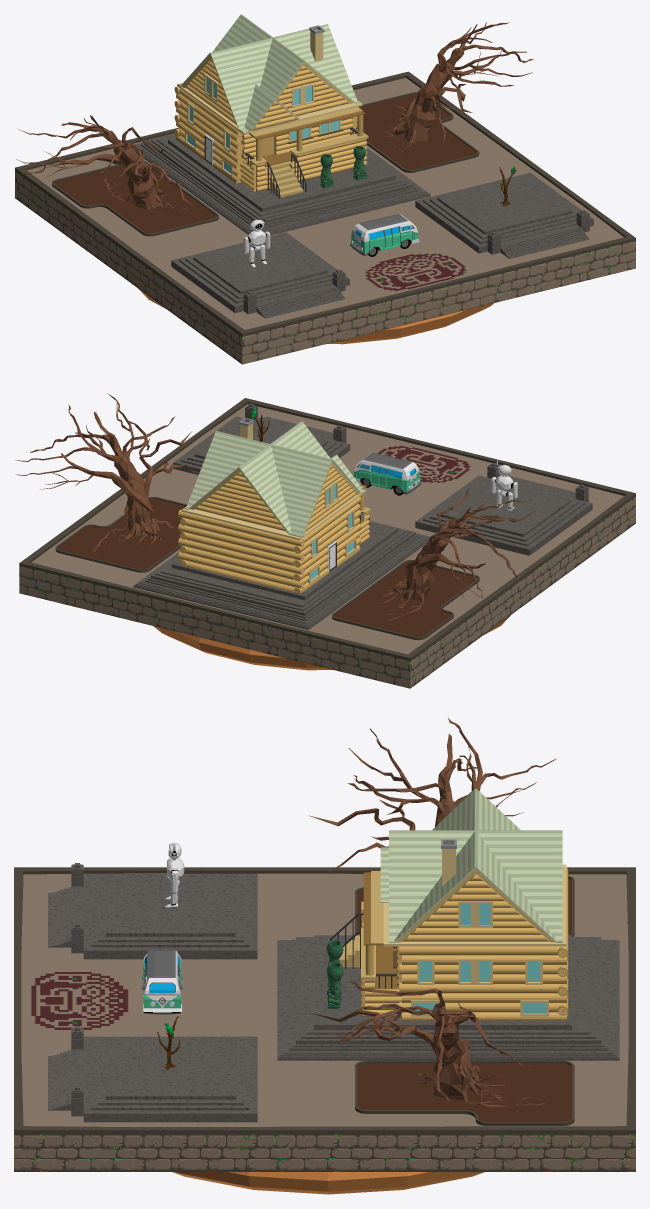
3 renders of one model, top to bottom at view 1: azimuth 30°, elevation 25°; view 2: azimuth 150°, elevation 25°; view 3: azimuth 270°, elevation 25°, orthographic. The views are drawn at different scales.
Visible parts, largest first — view 1: Cube.011, Cube.1516, VEHICLES_VAN, UNDERGROUND_PIZZA, OBJRANDOM_PLATZEEBOT; view 2: Cube.011, Cube.1516, VEHICLES_VAN, UNDERGROUND_PIZZA, OBJRANDOM_PLATZEEBOT; view 3: Cube.011, Cube.1516, UNDERGROUND_PIZZA, VEHICLES_VAN, OBJRANDOM_PLATZEEBOT.
Boxes of the visible parts, <box> form: Cube.011: <box>15,22,635,364</box>; Cube.1516: <box>174,14,368,198</box>; VEHICLES_VAN: <box>350,214,419,256</box>; UNDERGROUND_PIZZA: <box>138,288,493,344</box>; OBJRANDOM_PLATZEEBOT: <box>243,214,270,267</box>; Cube.011: <box>15,393,635,688</box>; Cube.1516: <box>178,417,370,593</box>; VEHICLES_VAN: <box>353,453,421,495</box>; UNDERGROUND_PIZZA: <box>153,615,510,670</box>; OBJRANDOM_PLATZEEBOT: <box>491,460,517,510</box>; Cube.011: <box>14,718,635,1171</box>; Cube.1516: <box>330,789,568,1020</box>; UNDERGROUND_PIZZA: <box>172,1172,484,1194</box>; VEHICLES_VAN: <box>142,950,182,1014</box>; OBJRANDOM_PLATZEEBOT: <box>165,842,184,907</box>.
Size of the model in its own units: 5099 by 1870 by 4000.
44 materials, 6 textured.
